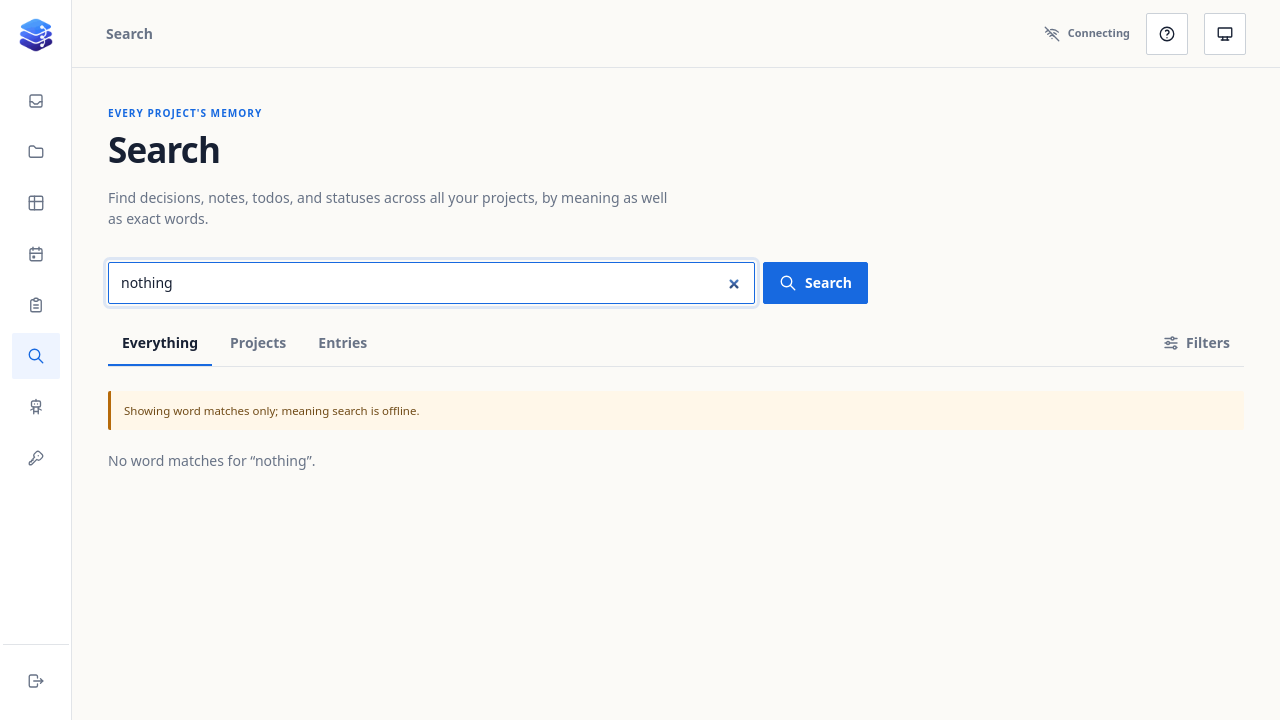
Test case: search › explains degraded retrieval, empty results, and unavailability with retry
The width and height of the screenshot is (1280, 720).
Check: the text "No word matches for “nothing”." is shown, box [108,452,315,470]
Check: the message named "degraded" shows "word matches only", box [124,403,420,418]
Click the button "Search" at (816, 283), box [763,262,868,304]
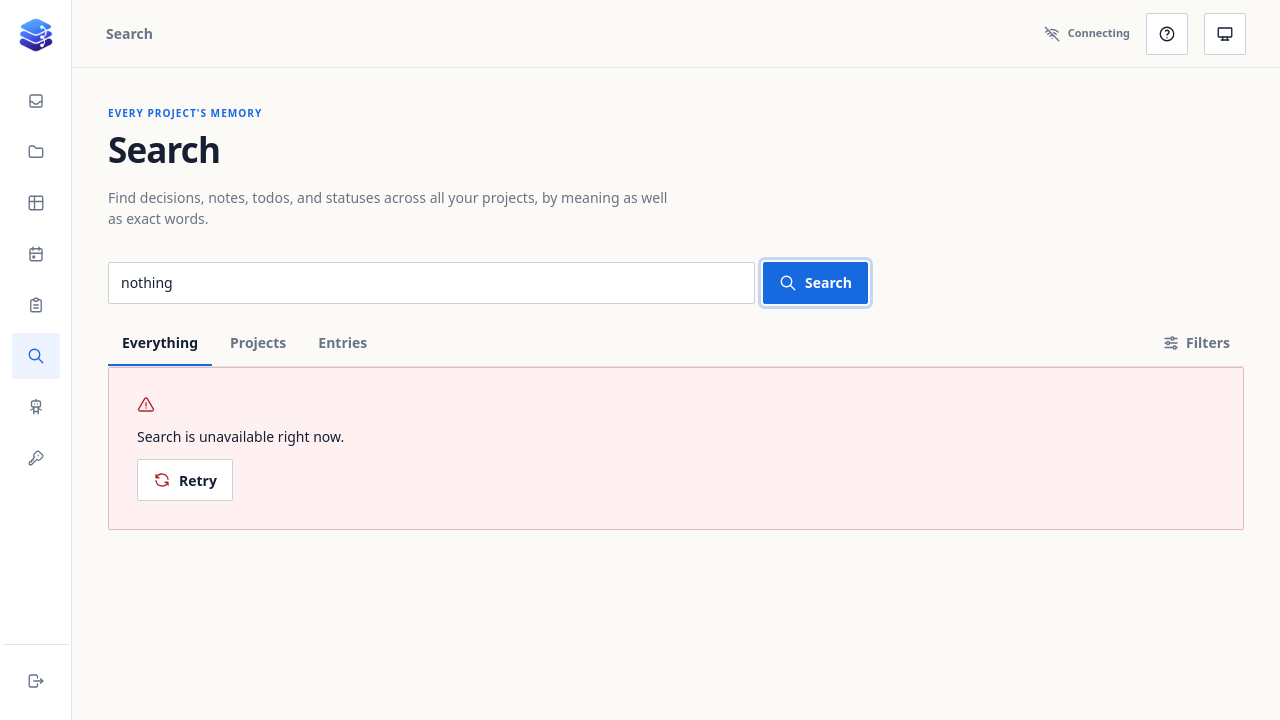
Check: the message shows "Search is unavailable", box [137,427,344,446]
Click the button "Retry" at (185, 480), box [137,459,233,501]
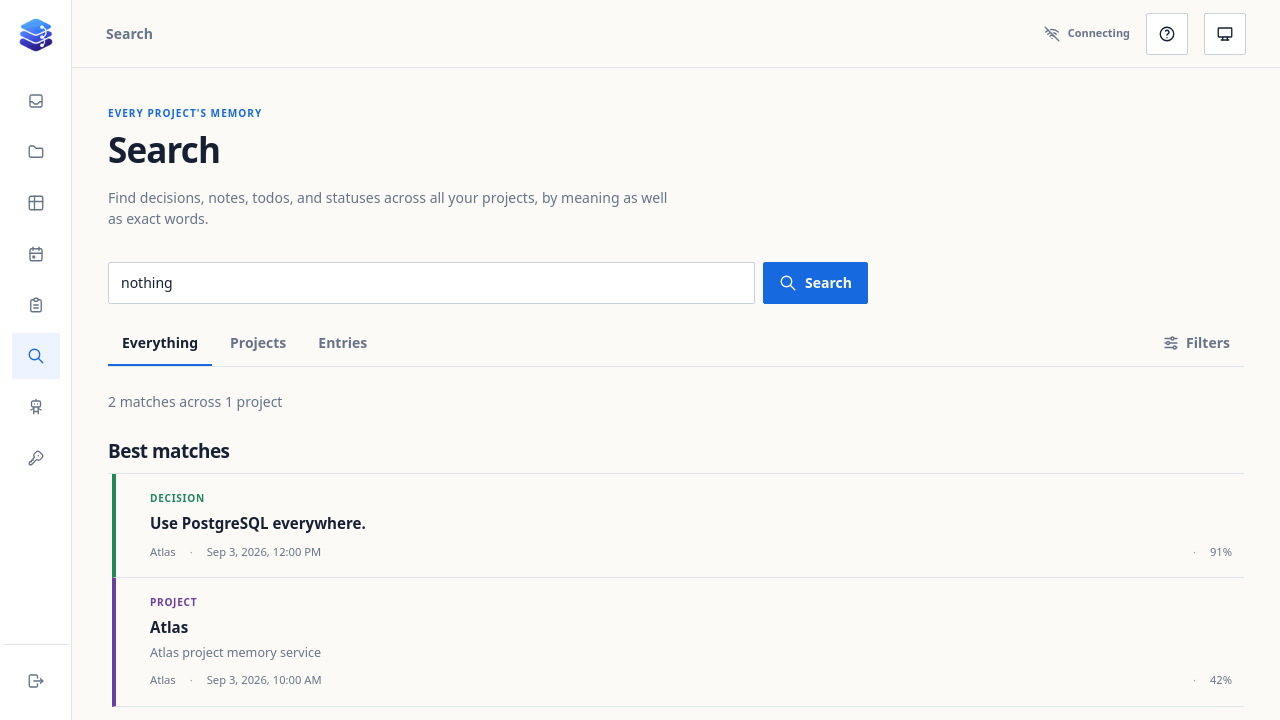
Check: the element named "results" is shown, box [108,391,1244,707]
